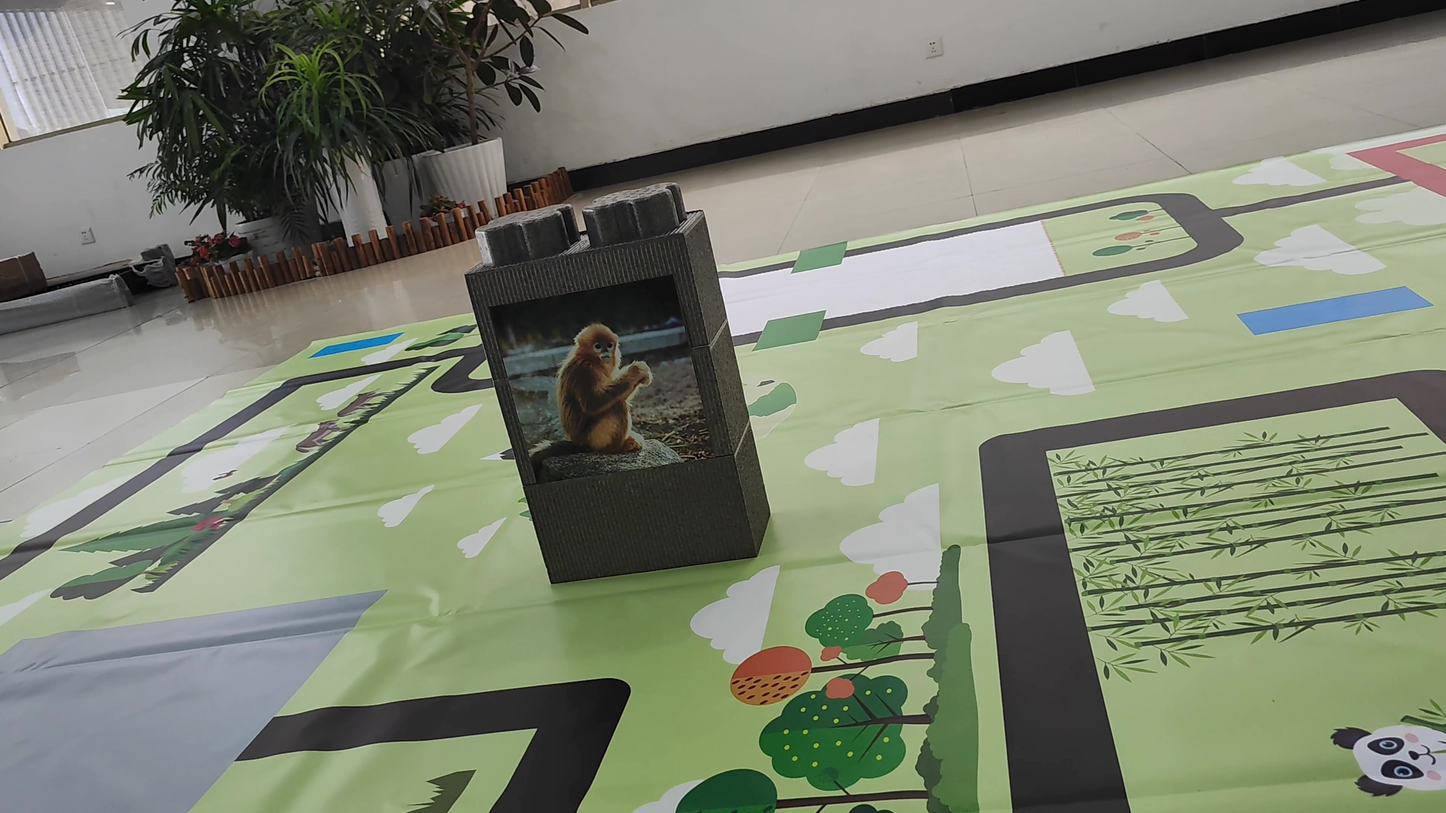monkey: (509, 285, 697, 466)
